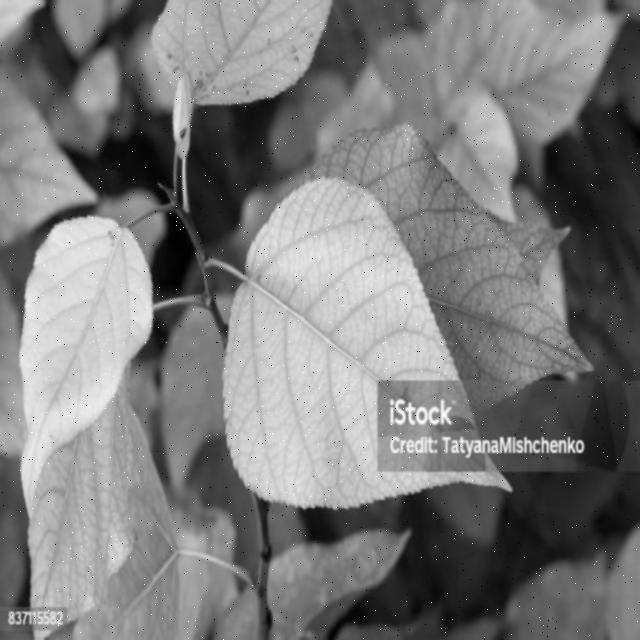yaprak: (227, 203, 474, 502), (358, 140, 586, 388), (432, 0, 635, 116), (64, 219, 132, 392), (54, 458, 144, 583), (258, 526, 364, 631), (171, 0, 304, 80), (490, 570, 628, 640), (441, 72, 509, 180)
